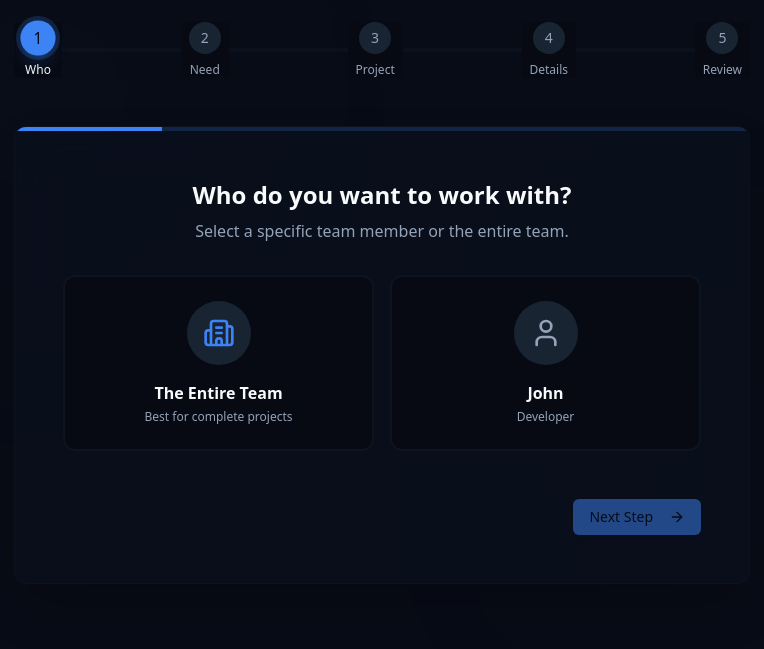
Contact Wizard › renders step 1 and validates selection
expect the heading "Who do you want to work with?" is shown: met, box [193,178,571,211]
expect the button "Next Step" is disabled: met, box [573,499,701,535]
Select team
Step 1. Click the heading "The Entire Team" → (218, 393), box [144,381,292,405]
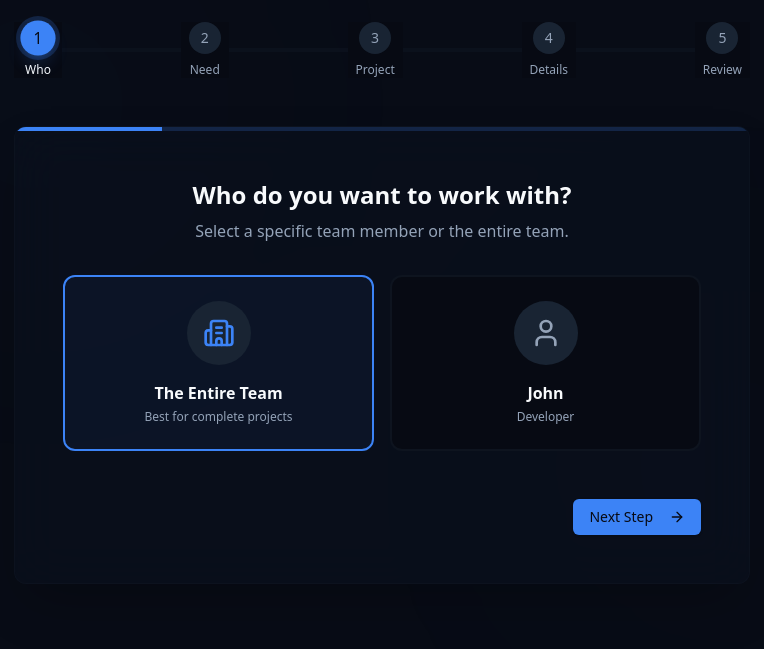
expect the button "Next Step" is enabled: met
Step 2. Click the button "Next Step" → (637, 517), box [573,499,701,535]
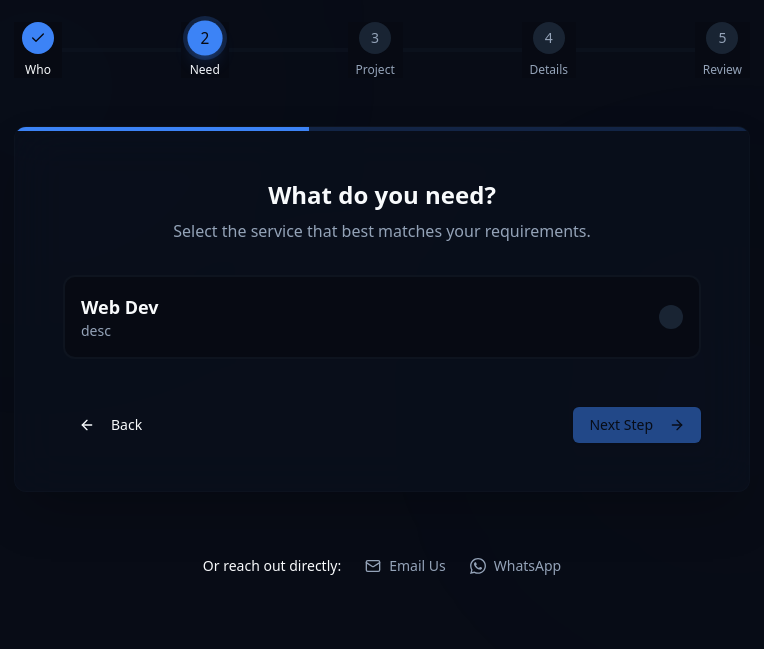
expect the heading "What do you need?" is shown: met, box [268,178,496,211]
